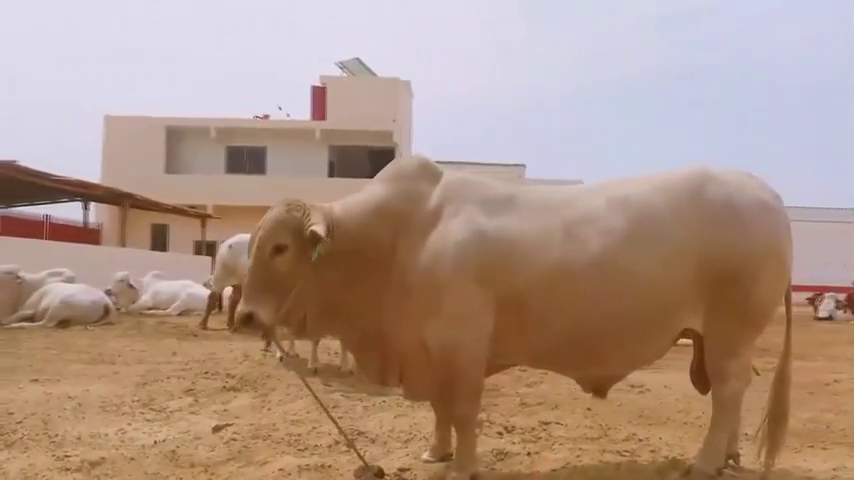bo: (233, 139, 806, 480), (199, 219, 258, 338), (15, 277, 119, 332), (124, 260, 207, 316), (6, 257, 78, 305)
